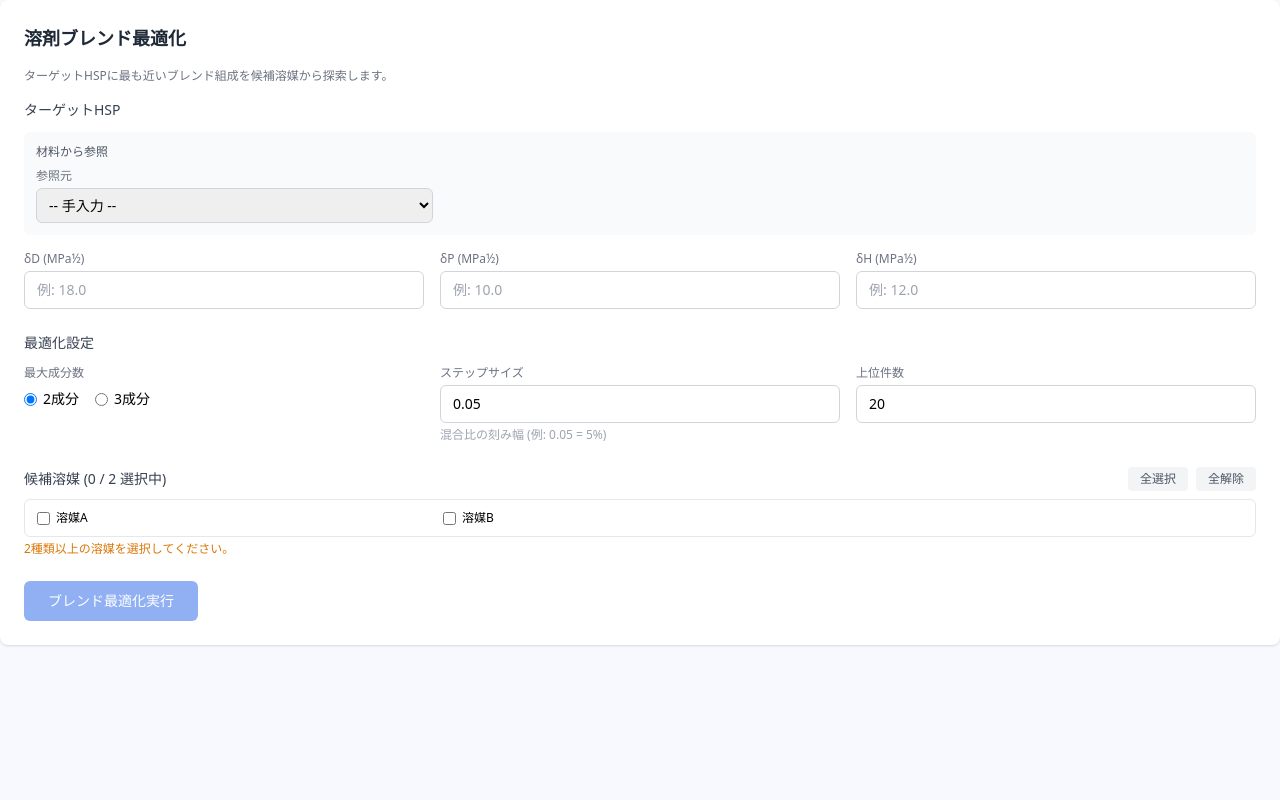
Scenario: BlendOptimizerView › 最適化実行で結果テーブルが表示される
Expected: the text "溶媒A" is shown, [56,510,88,526]
Click the button "全選択" at (1158, 479), box [1128,467,1188,491]
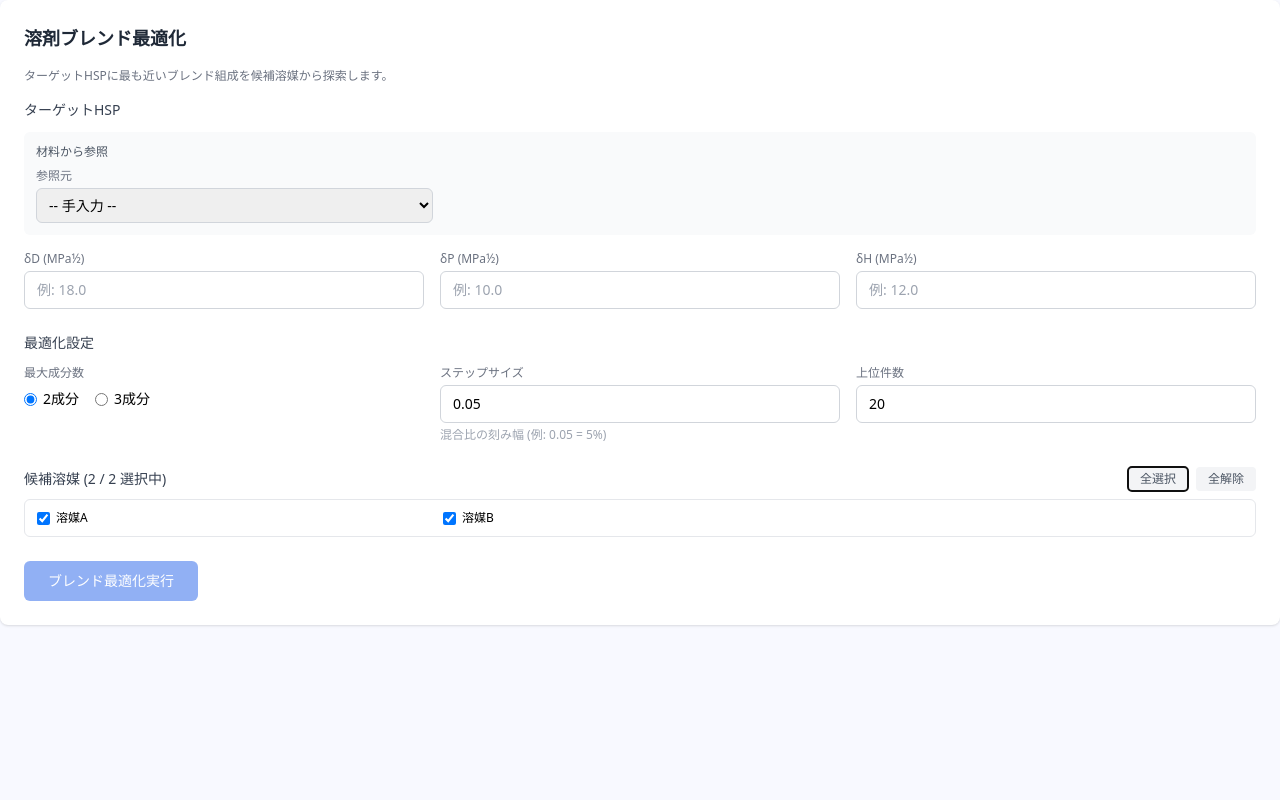
# δD, δP, δH, stepSize, topN の順
Type "18" into the number field with placeholder "例: 18.0" at (224, 290), box [24,271,424,309]
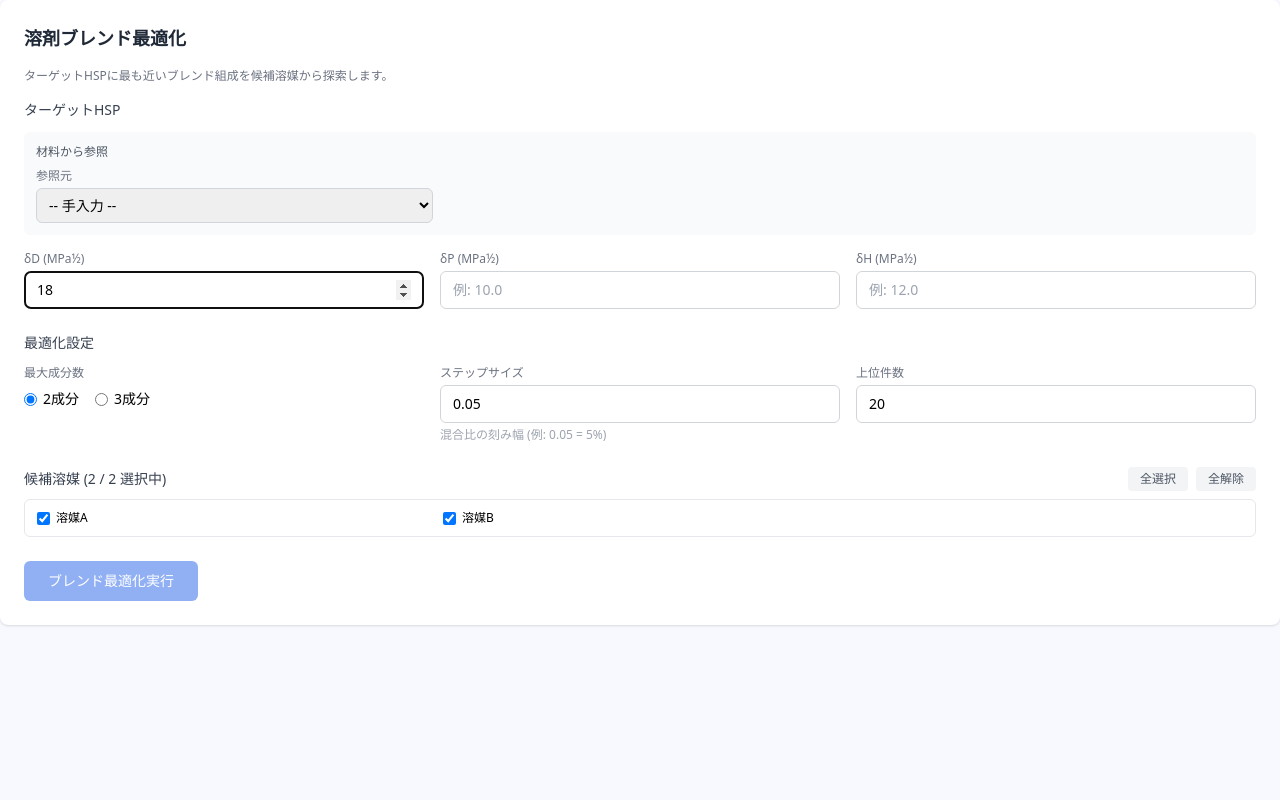
Type "10" into the number field with placeholder "例: 10.0" at (640, 290), box [440,271,840,309]
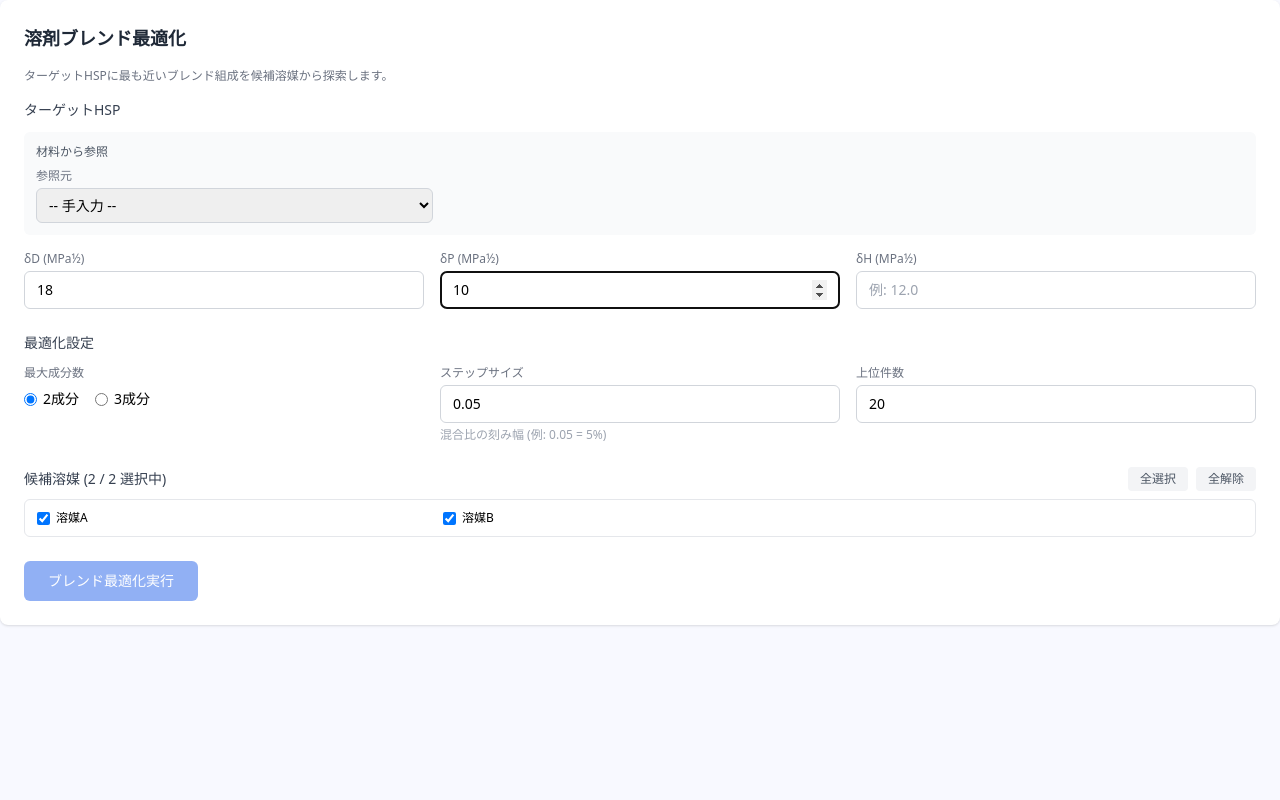
Type "12" into the number field with placeholder "例: 12.0" at (1056, 290), box [856,271,1256,309]
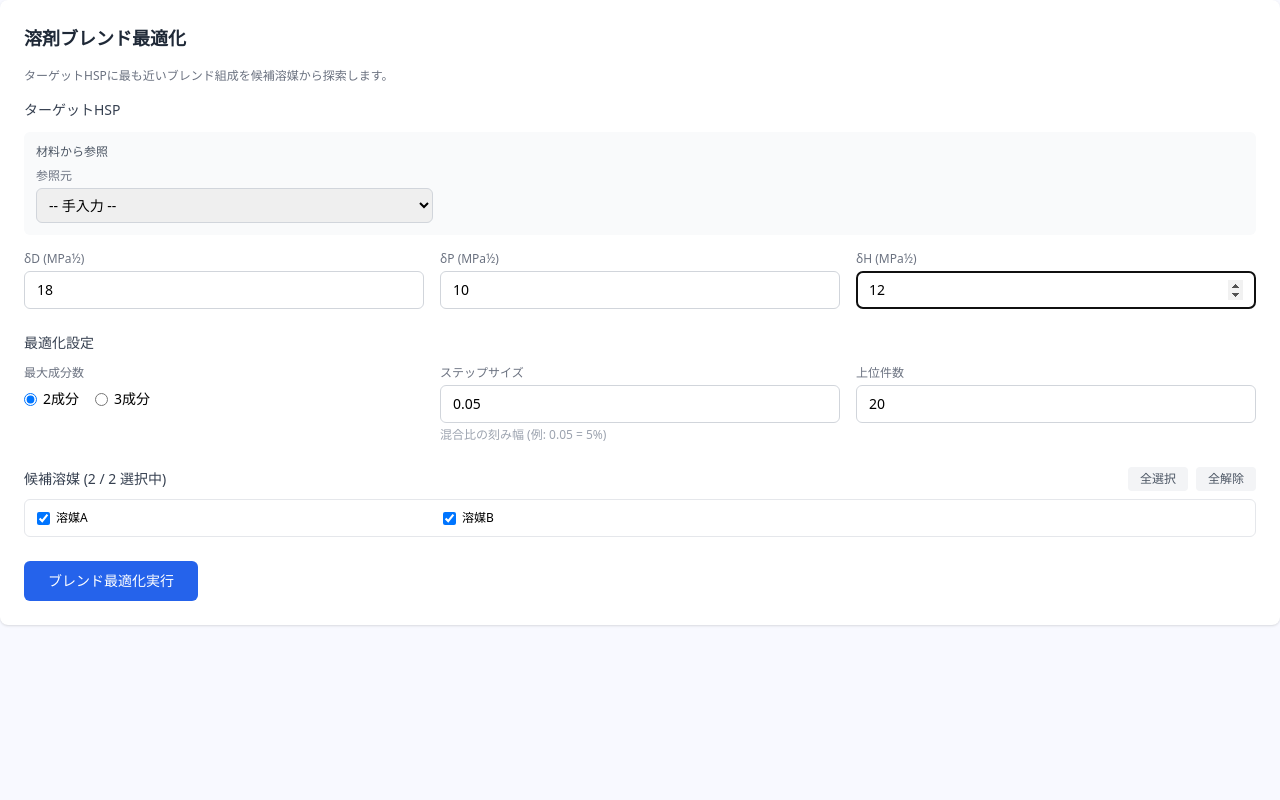
Click the button "ブレンド最適化実行" at (111, 581), box [24,561,198,601]
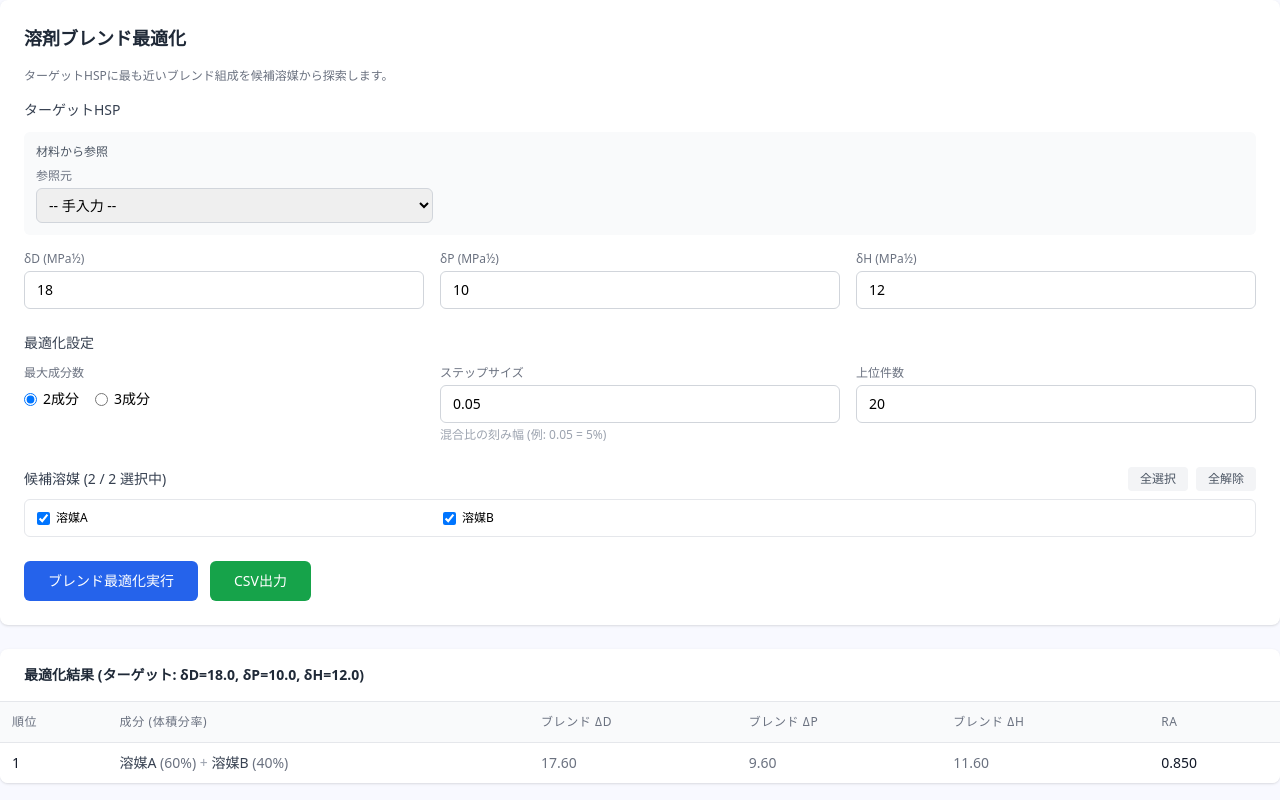
Result: the heading "最適化結果 (ターゲット: δD=18.0, δP=10.0, δH=12.0)" is shown at [24,665,364,684]
Result: the text "0.850" is shown at [1149,742,1279,783]
